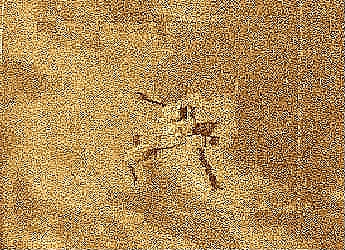aircraft: (127, 90, 214, 191)
